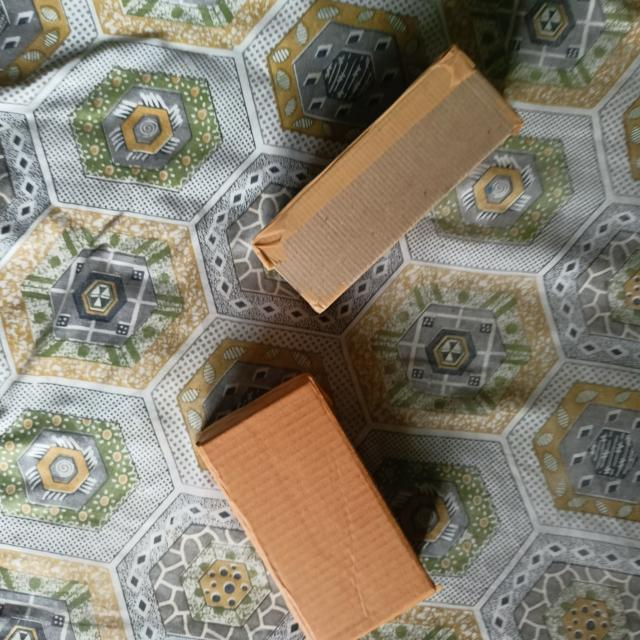box: (257, 49, 527, 306), (201, 382, 436, 640)
